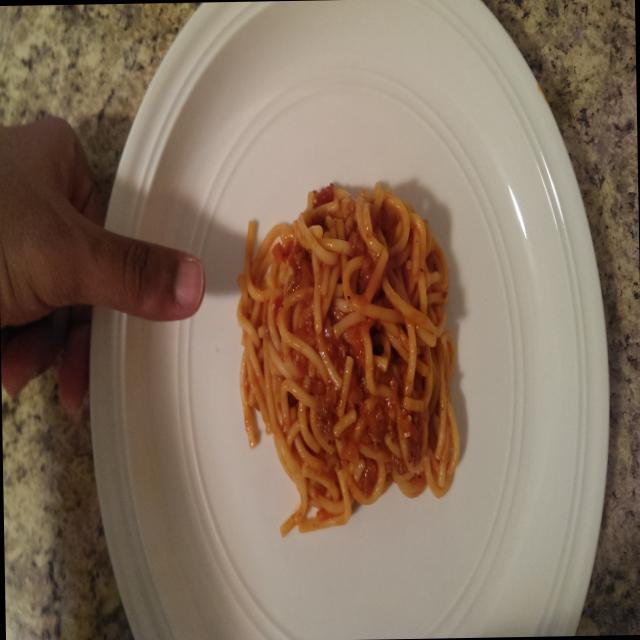Finger: (118, 223, 208, 329)
Pasta: (232, 177, 465, 544)
